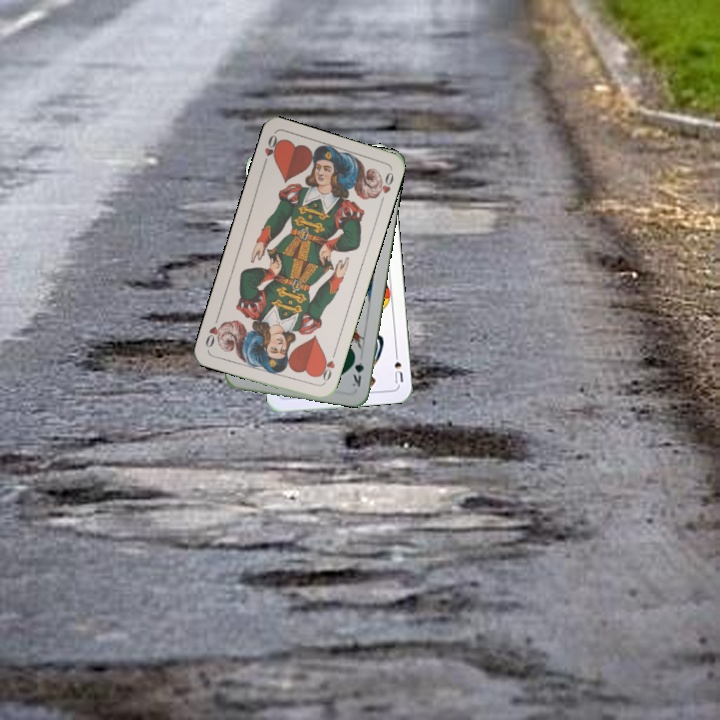GK: (348, 350, 367, 389)
HO: (259, 131, 283, 170), (315, 347, 338, 387)
SU: (390, 346, 406, 386)
